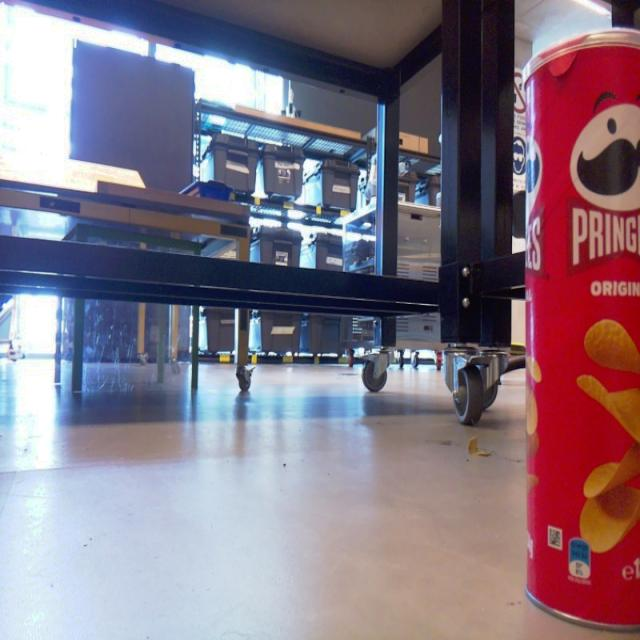redpringles: (481, 32, 640, 634)
